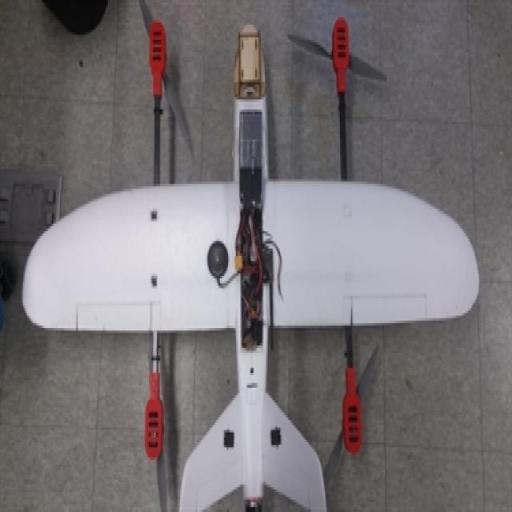uav: (18, 14, 482, 512)
